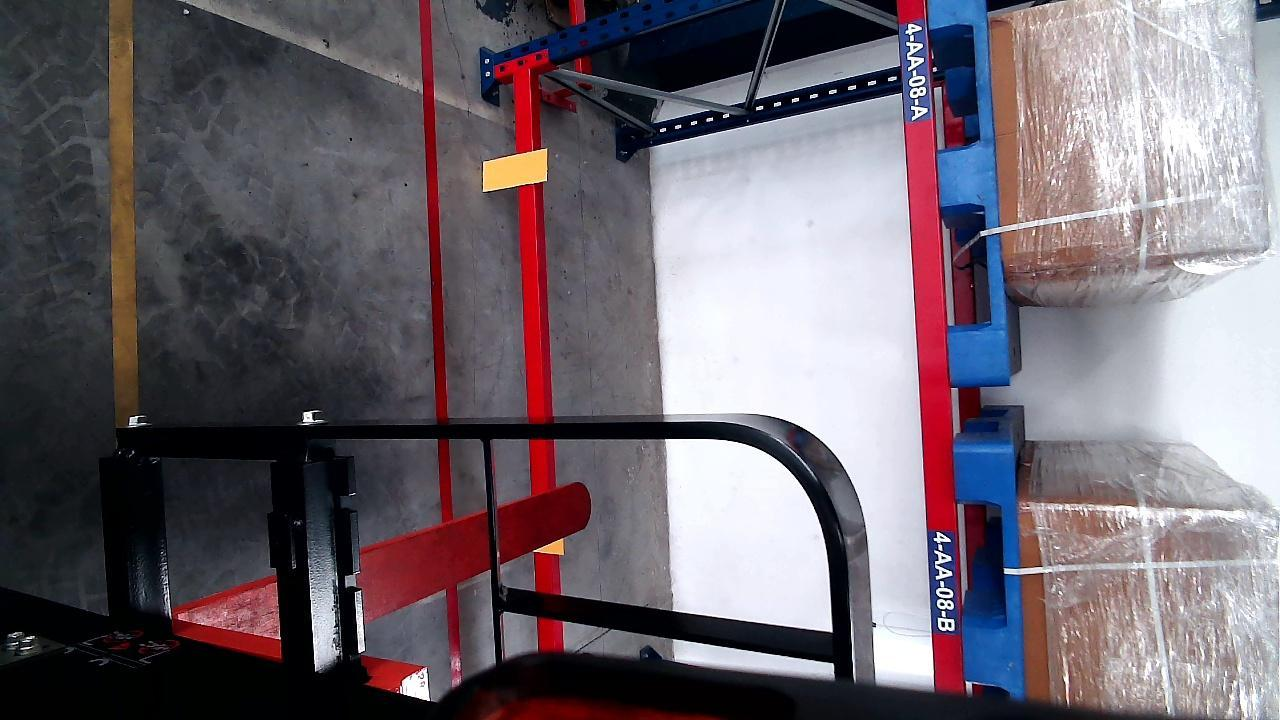yellow_line: (109, 0, 139, 425)
